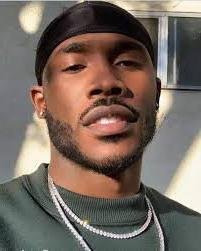Sober: (46, 41, 155, 161)
